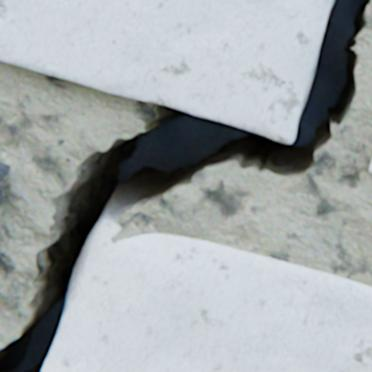brick: (0, 0, 331, 142), (43, 233, 371, 371), (0, 161, 11, 207), (369, 161, 371, 172)
crack: (0, 0, 371, 371)
